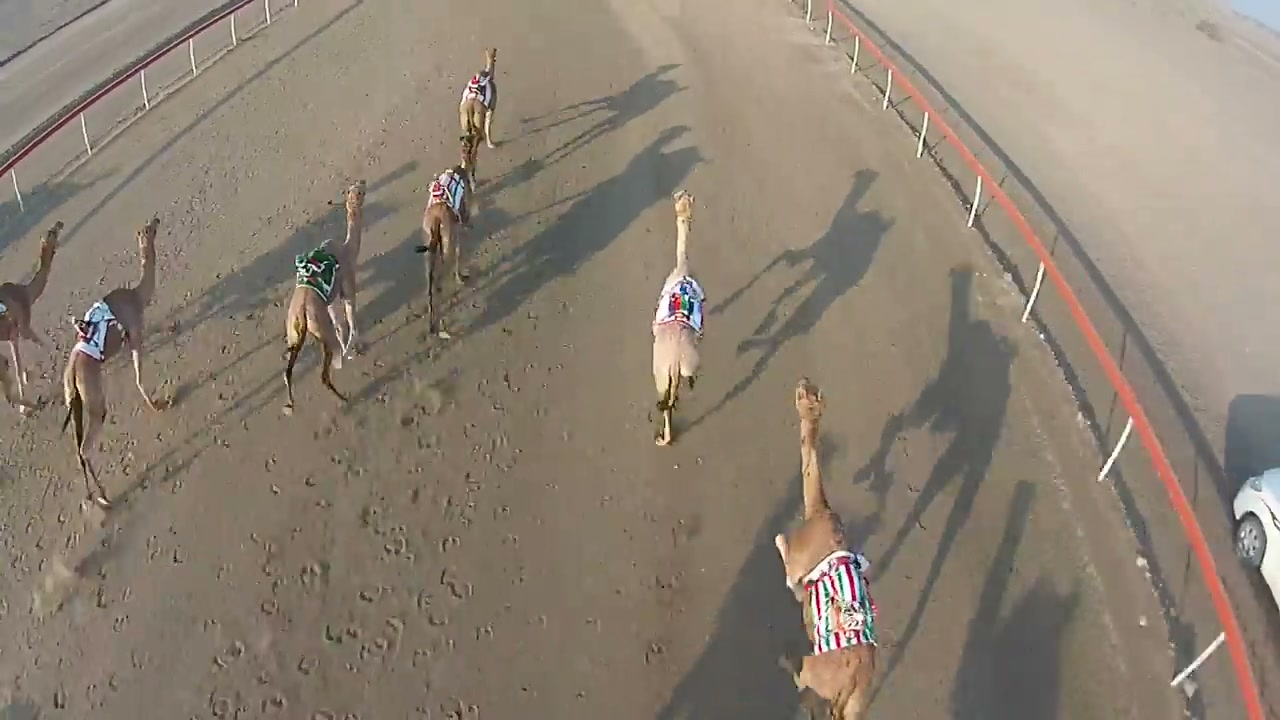animal_foot_print: (189, 258, 562, 719), (4, 398, 202, 704), (619, 478, 713, 706)
